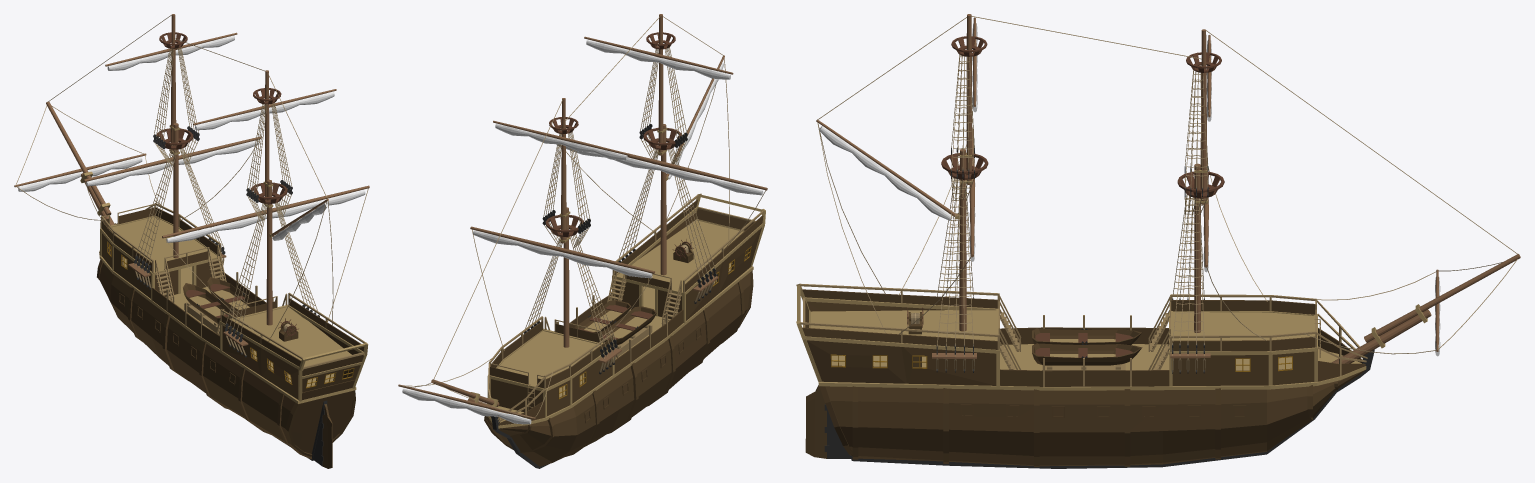
The model's file is New ship 4 far.fbx.
The picture shows the model from 3 angles, left to right: view 1: azimuth 30°, elevation 25°; view 2: azimuth 150°, elevation 25°; view 3: azimuth 270°, elevation 25°; orthographic projection. The views are drawn at different scales.
Visible parts, largest first — view 1: Cube.991; view 2: Cube.991; view 3: Cube.991.
Boxes of the visible parts, x1,y1,x2,y2 form: Cube.991: [14, 14, 369, 468]; Cube.991: [398, 14, 767, 468]; Cube.991: [796, 14, 1520, 468].
Bounding box in the file's own units: 1582 × 2646 × 3836.
